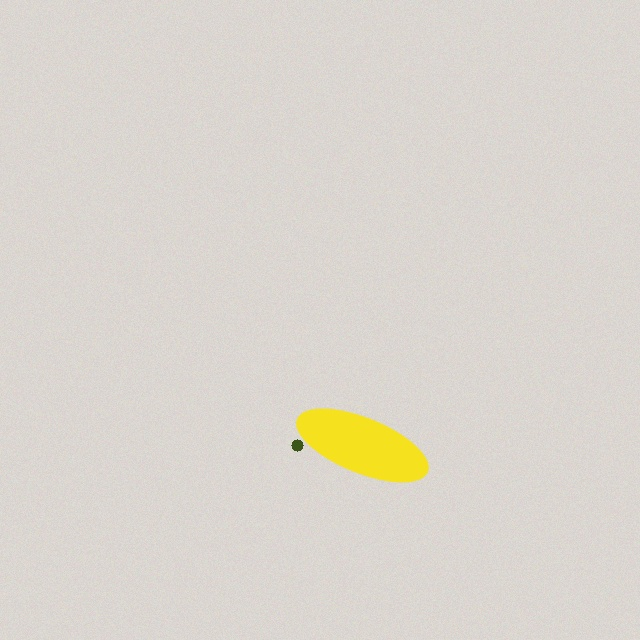Fresh banana: (289, 412, 435, 478)
